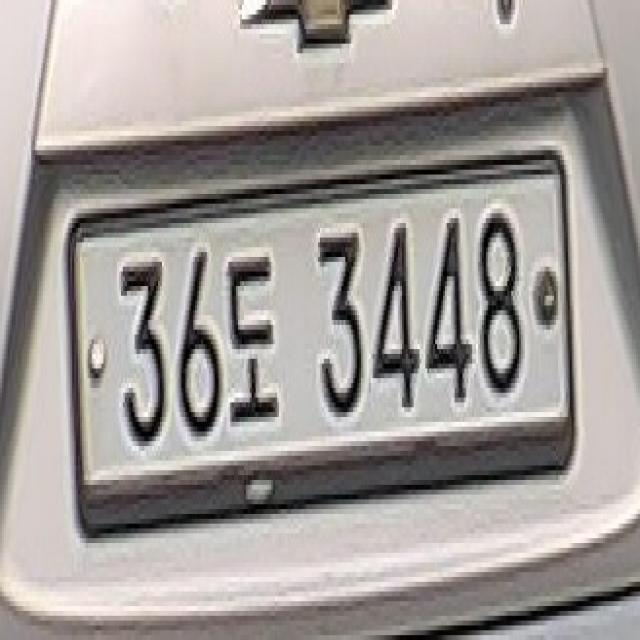3: (312, 218, 365, 422), (117, 242, 168, 446)
4: (422, 204, 472, 407), (371, 223, 421, 412)
6: (174, 247, 224, 441)
8: (474, 204, 525, 398)
do: (224, 243, 281, 432)
license_plate: (72, 155, 574, 504)
